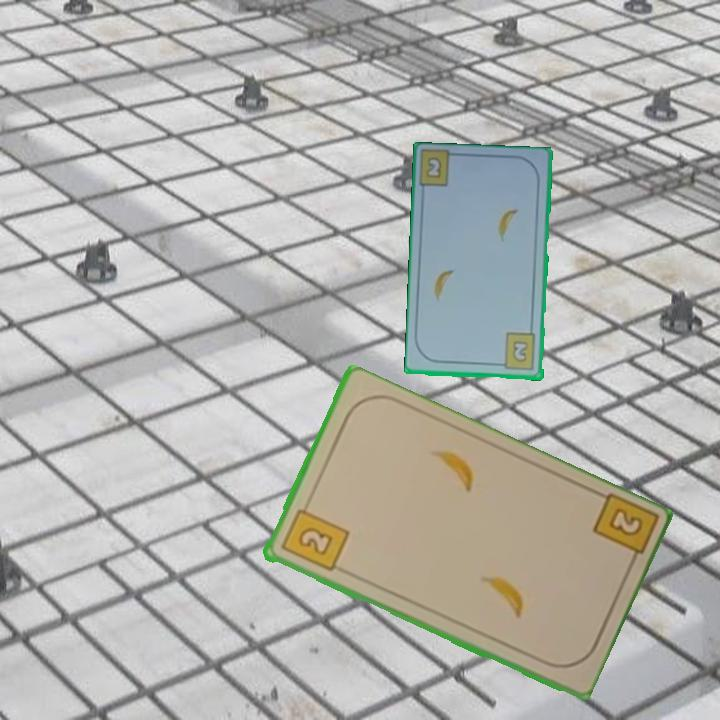2b: (588, 490, 658, 572), (277, 498, 351, 575), (495, 330, 539, 373), (423, 153, 444, 182)
